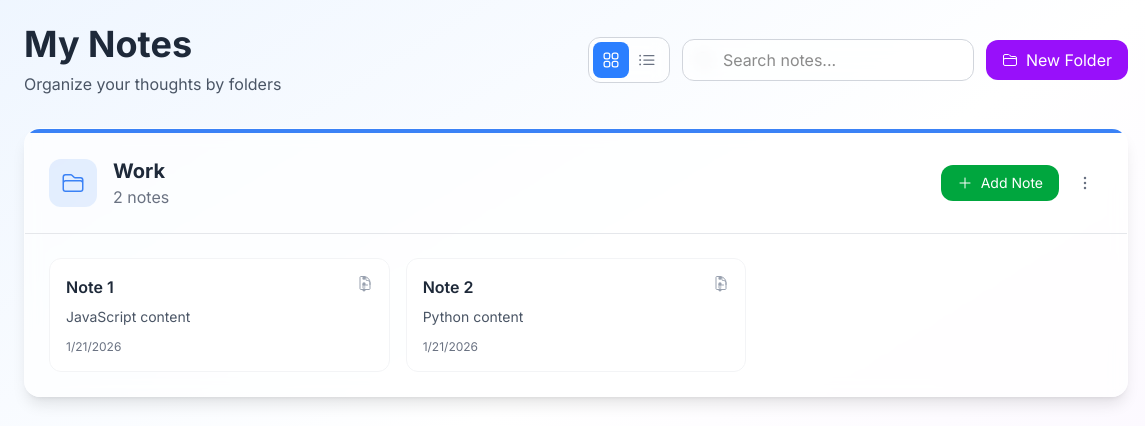
Test case: Notes Page › Search Functionality › filters notes by content
Type "JavaScript" into the field with placeholder "Search notes...". click: (828, 60)
box: [682,39,974,81]
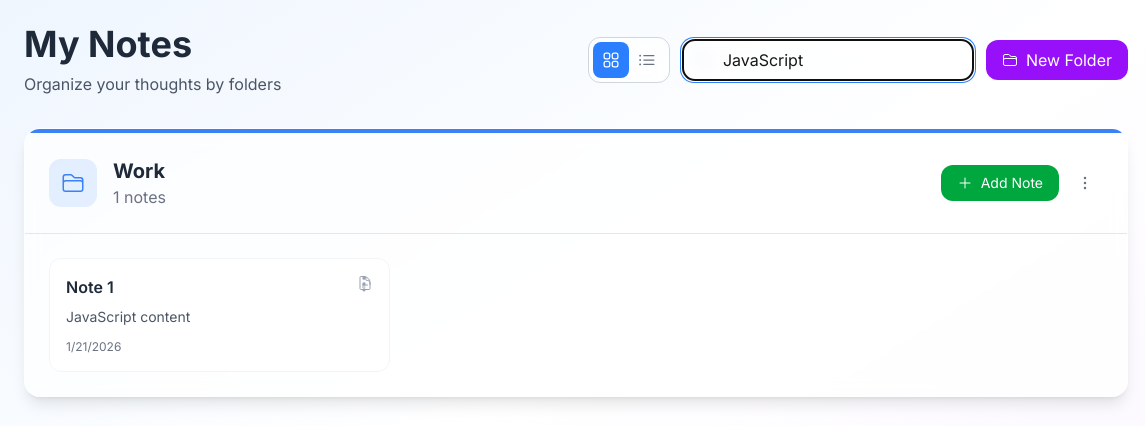
Expected: the heading "Note 1" is shown, [66,277,114,297]
Result: the link "Note 2" is gone
